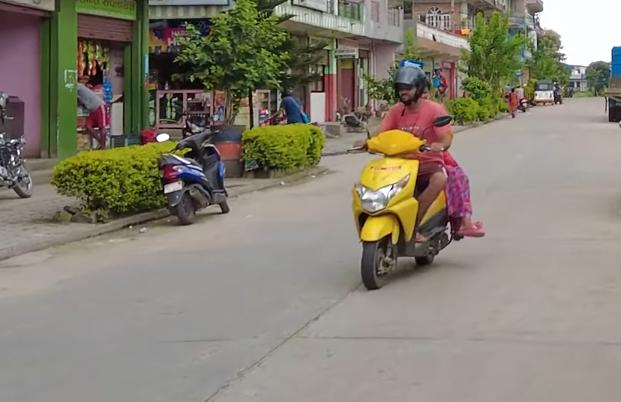scooter: (338, 109, 476, 298), (152, 116, 235, 228)
